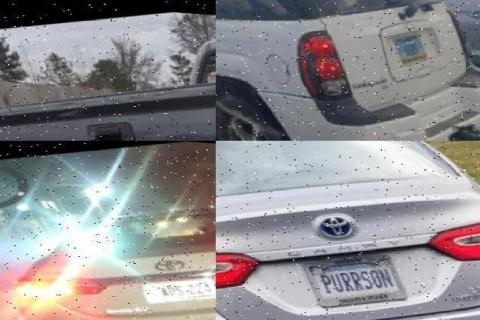LicensePlate: (299, 249, 406, 304), (129, 267, 216, 311), (388, 25, 426, 59)
